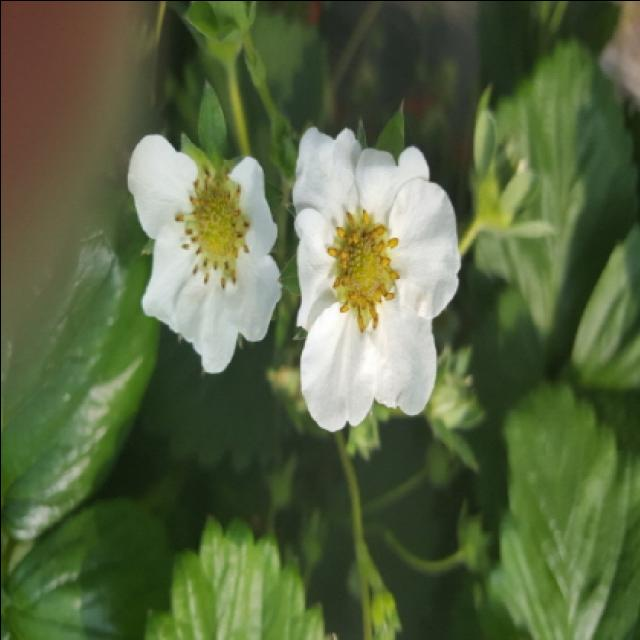Blossom Blight: (169, 161, 256, 294), (323, 203, 403, 336)
